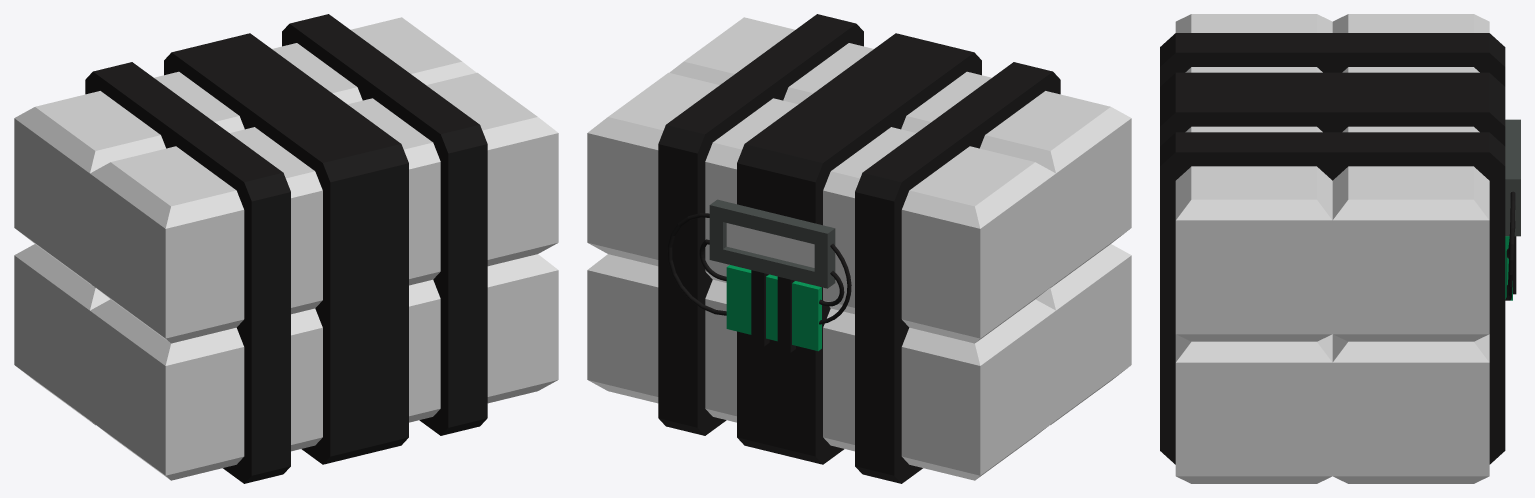
The picture shows the model from 3 angles, left to right: view 1: azimuth 30°, elevation 25°; view 2: azimuth 150°, elevation 25°; view 3: azimuth 270°, elevation 25°; orthographic projection. The views are drawn at different scales.
Visible parts, largest first — view 1: skp2CAA1; view 2: skp2CAA1; view 3: skp2CAA1.
Boxes of the visible parts, <box> form: skp2CAA1: <box>14,14,558,483</box>; skp2CAA1: <box>587,14,1131,483</box>; skp2CAA1: <box>1160,14,1520,483</box>.
Bounding box in the file's own units: 300 × 220 × 230.
